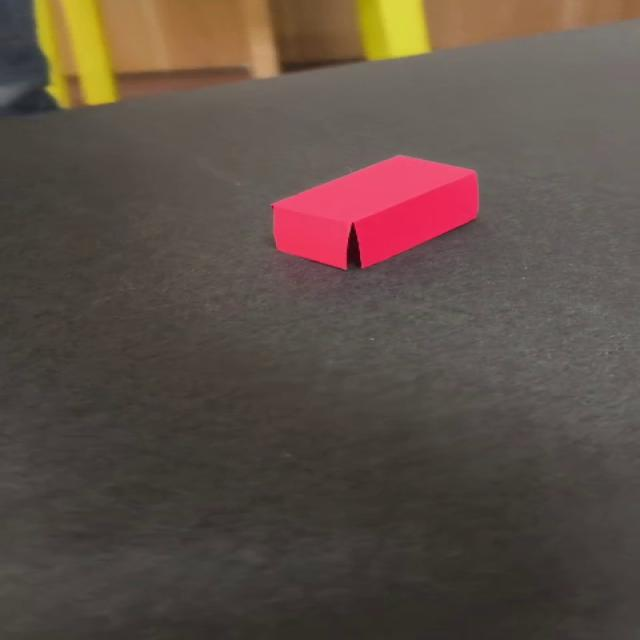red block: (269, 154, 480, 270)
